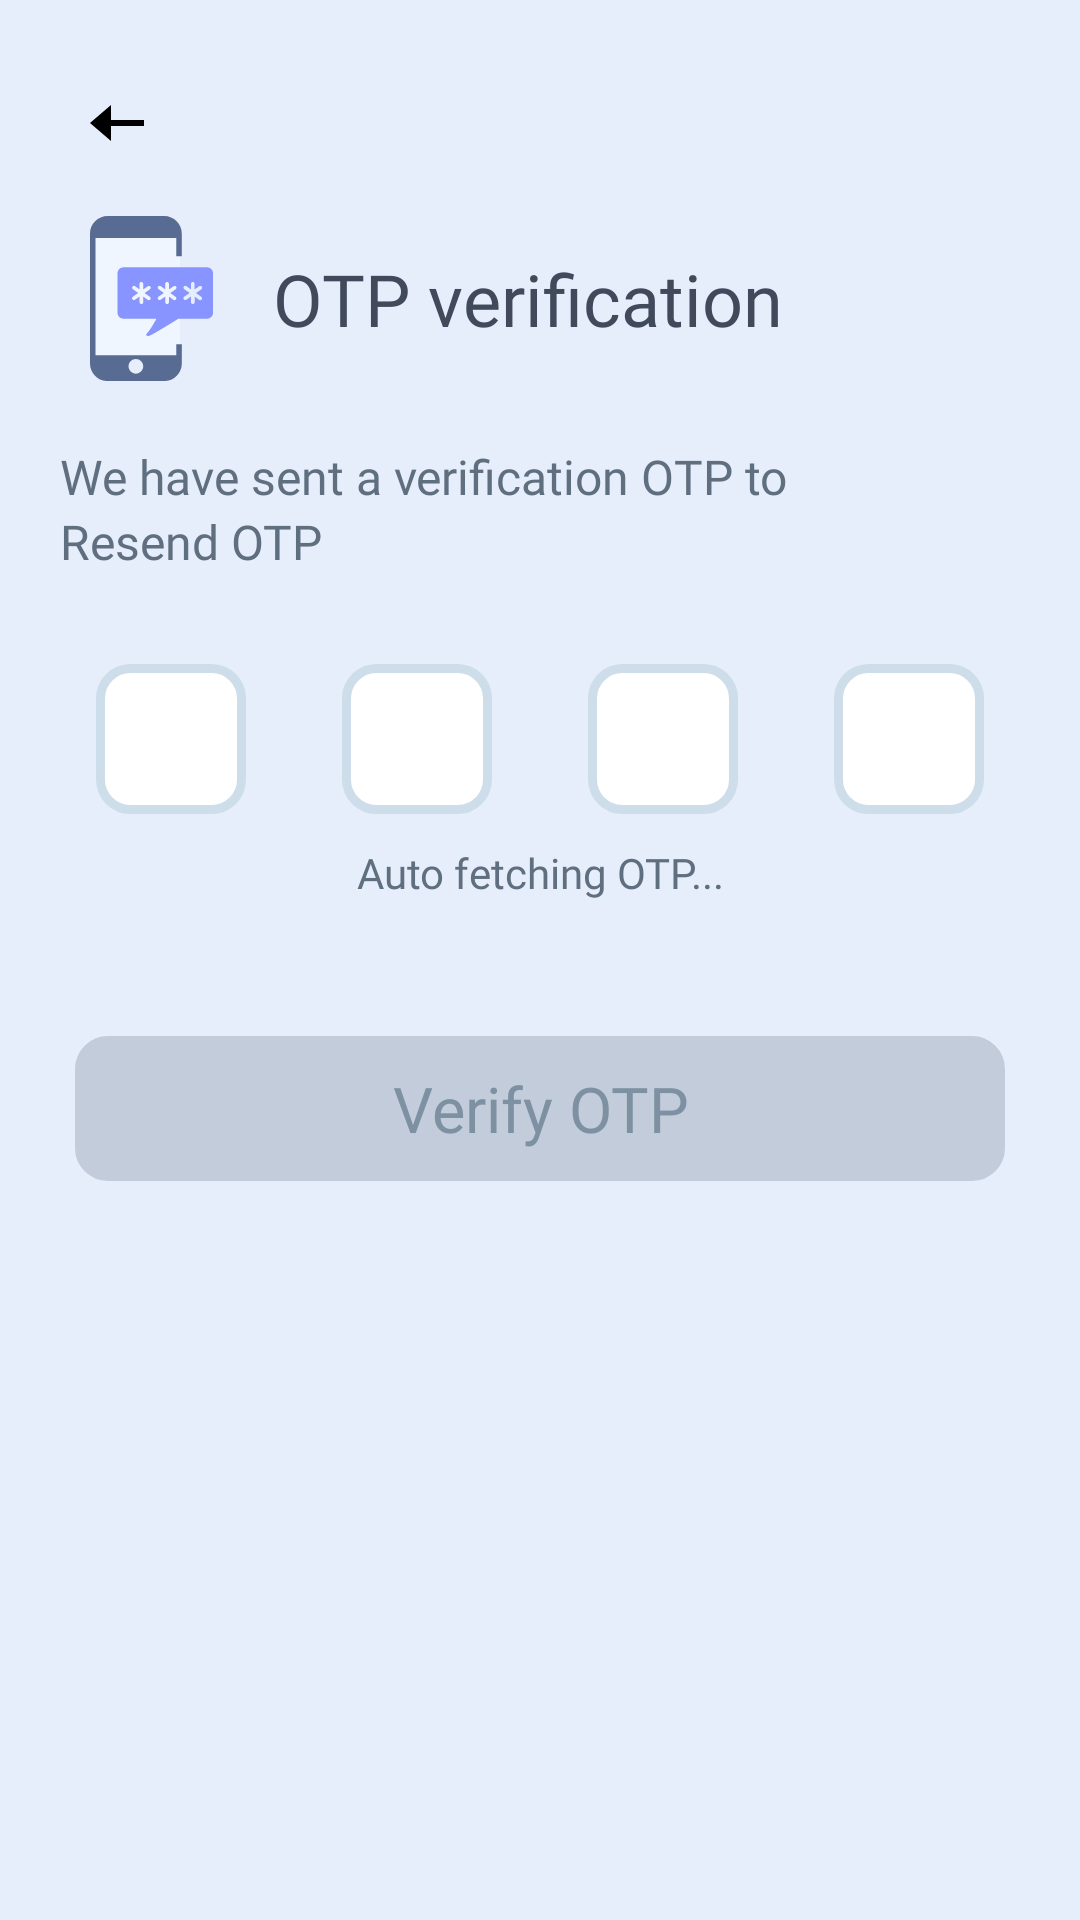

Where to tap for icons on this 1080w x 1920h app screen, as point (x, y):
back arrow: point (117, 123)
